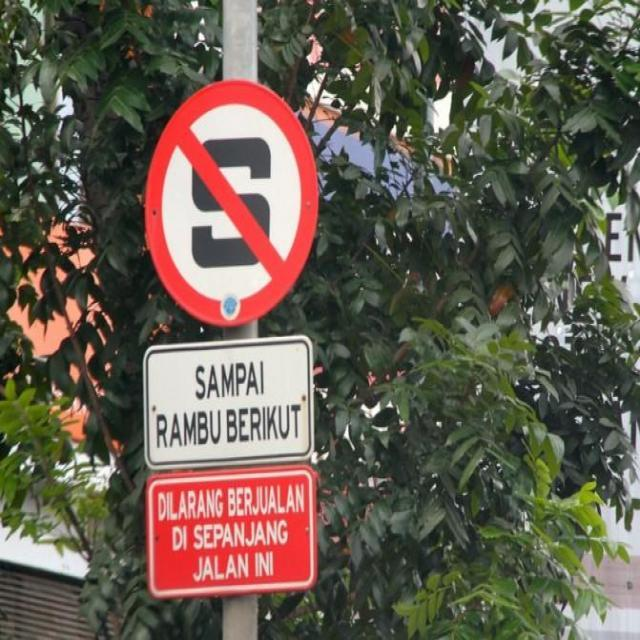traffic sign: (145, 81, 316, 322)
